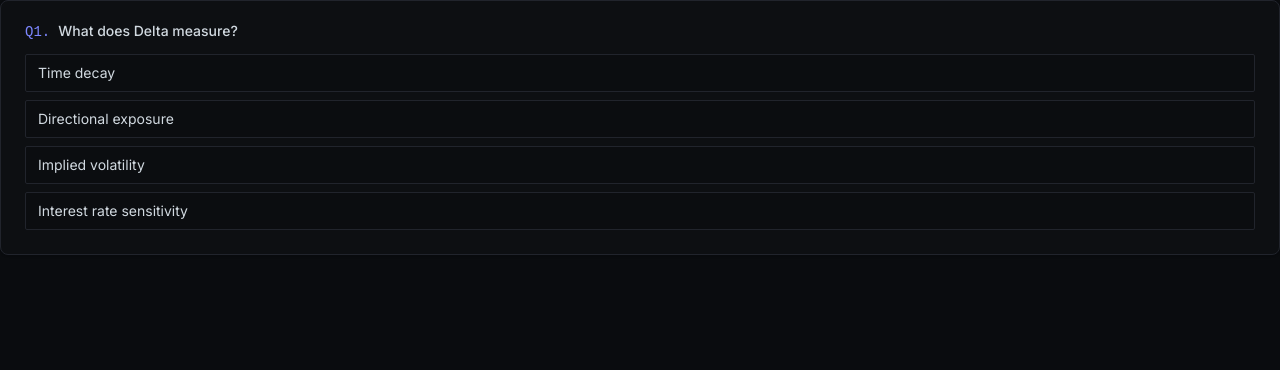
Test: QuizCard › selecting the correct option shows the explanation and disables further picks
This screenshot has width=1280, height=370.
Step 1. Click the button with test id "quiz-card-0-option-1" → x=106, y=118, box [25,100,1255,138]
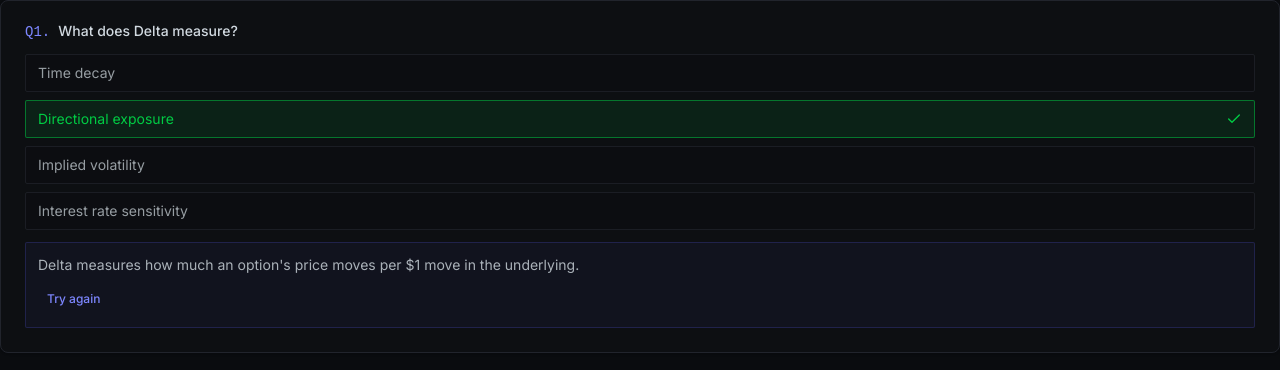
Expected: the element with test id "quiz-card-0-explanation" shows "Delta measures how much an option's price moves per $1 move in the underlying.", [38,256,579,273]
Expected: the button with test id "quiz-card-0-option-0" is disabled, [25,54,1255,92]
